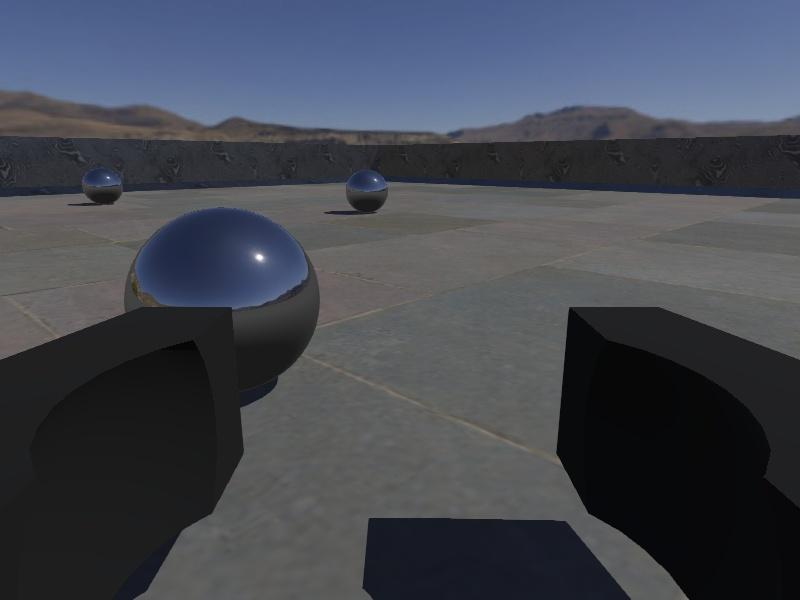steel ball: (345, 169, 389, 214), (82, 166, 124, 205)
